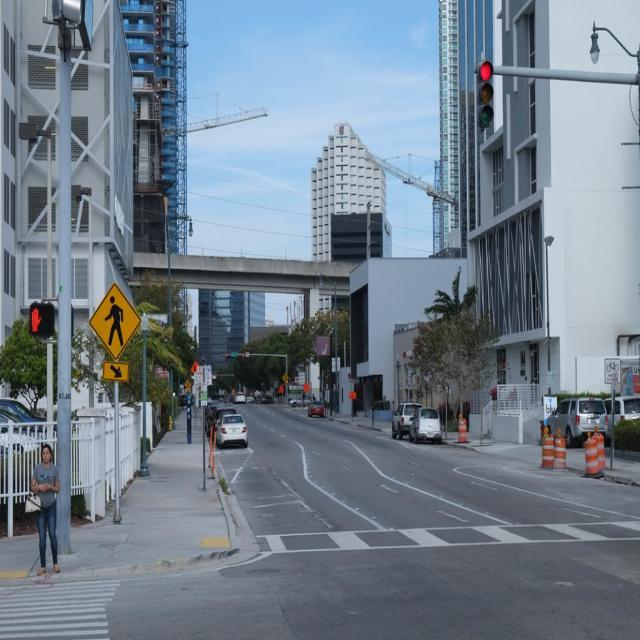traffic light: (477, 60, 494, 129), (28, 303, 54, 337)
